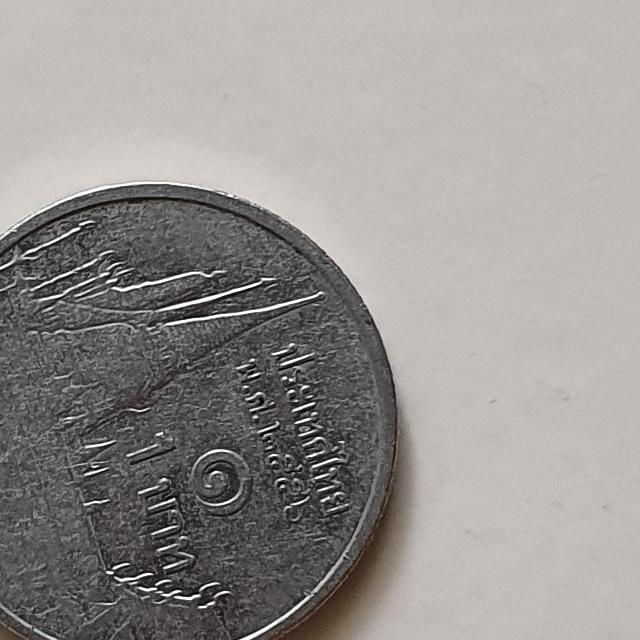1 Bath: (1, 171, 411, 640)
